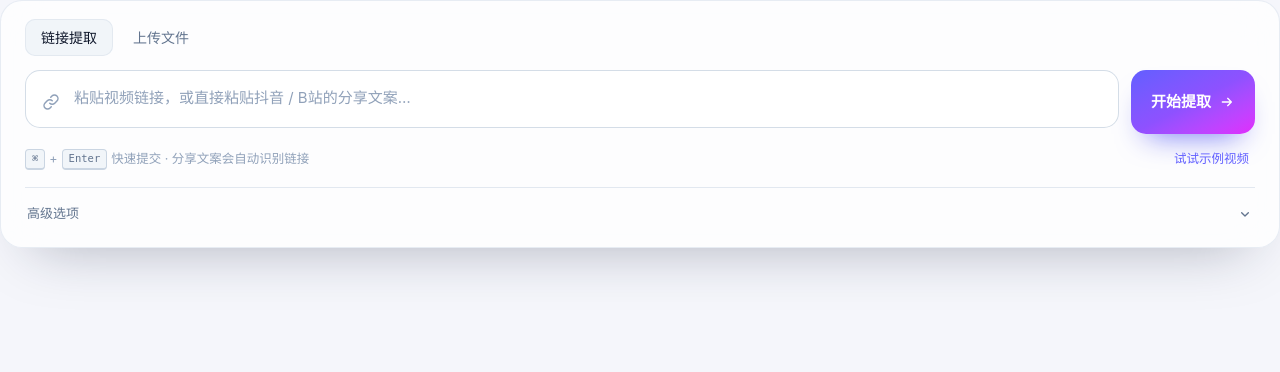
it: Extractor › 切换到上传文件并选择文件
Click the tab "上传文件" at (161, 38), box [117,19,205,56]
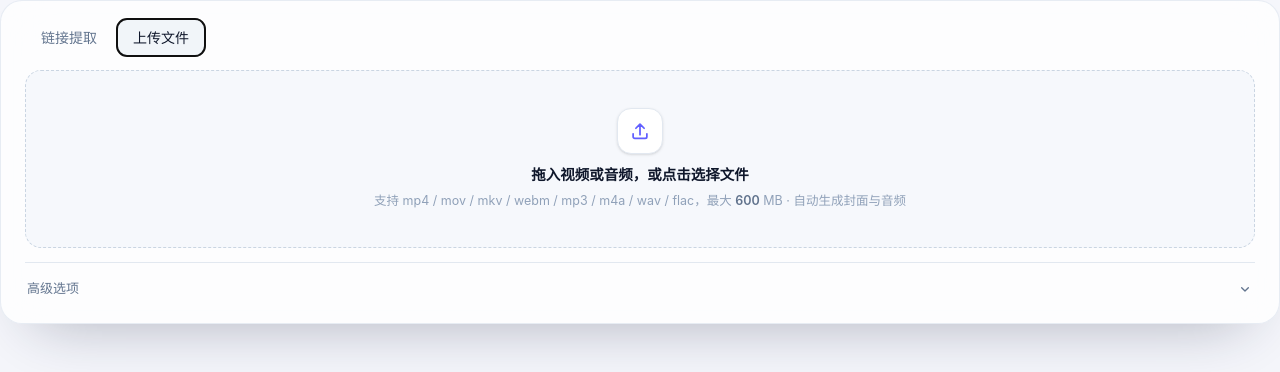
Expected: the file field is shown, [25,70,1255,248]
